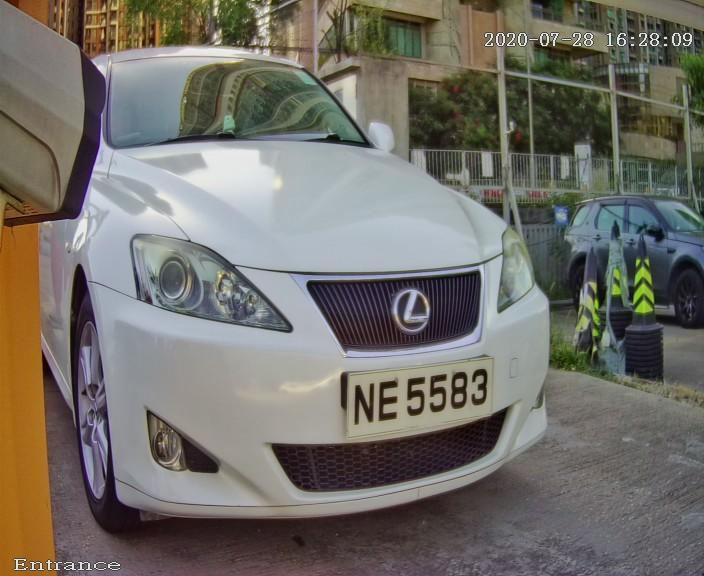privatecar: (35, 8, 591, 559)
